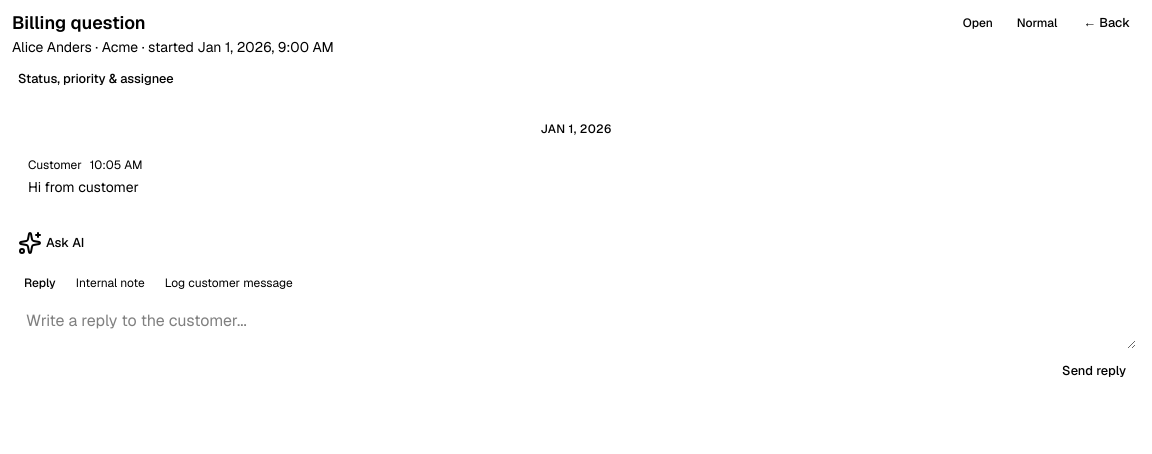
Test case: ConversationPane › AI suggestion in the single compose box › editing changes only the box; Discard empties it and removes the banner, nothing is created
The image size is (1152, 454).
Click the button "Ask AI" at (51, 243), box [8,229,94,257]
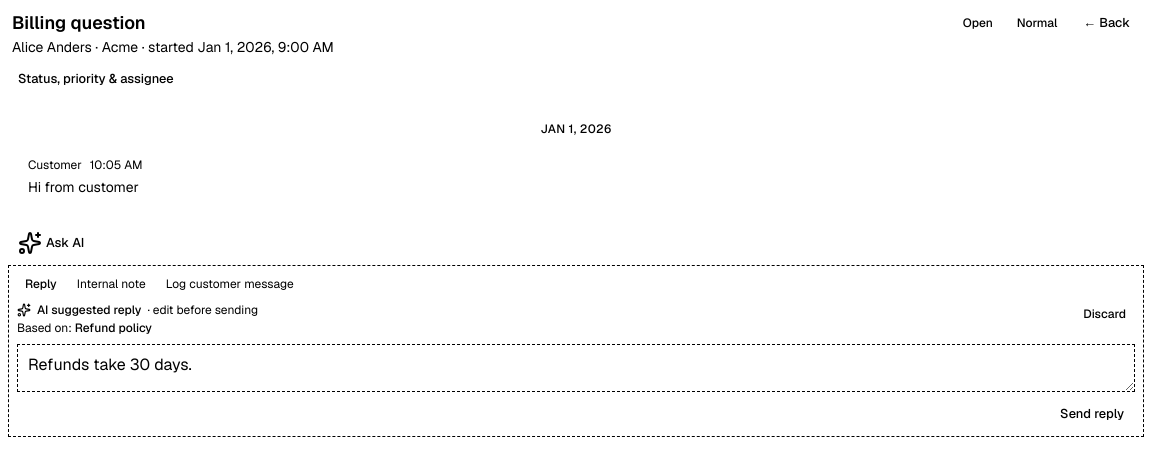
Replace the text in the text box showing "Refunds take 30 days." with "Edited text" at (576, 368), box [17,344,1135,392]
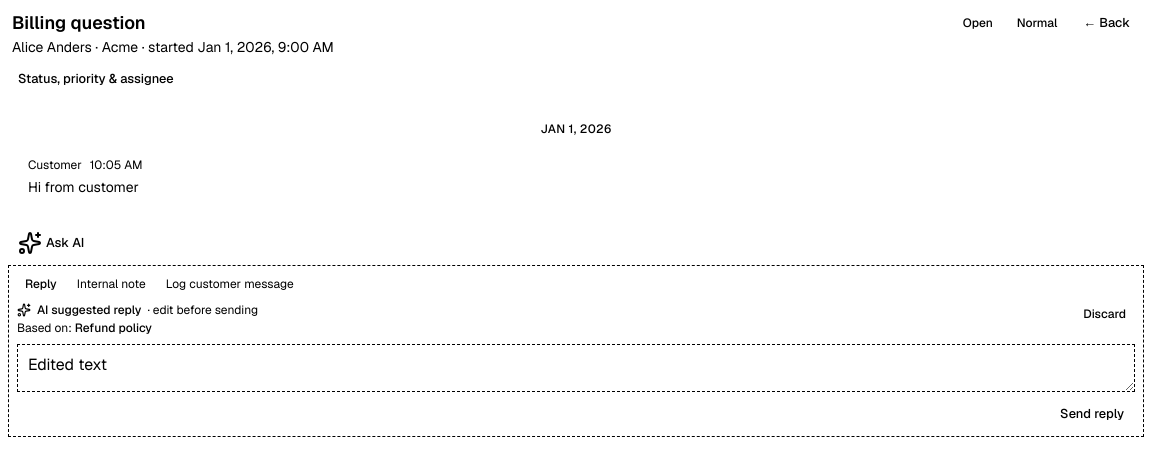
Click the button "Discard" at (1105, 314), box [1074,302,1135,326]
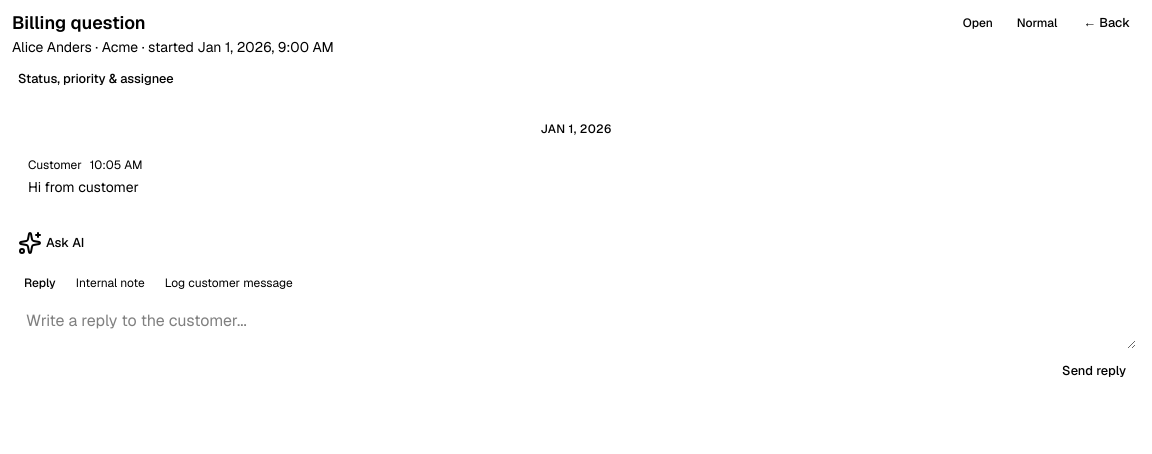
Expected: the message "AI suggested reply" is gone
Expected: the text box is empty, [16,301,1136,349]
